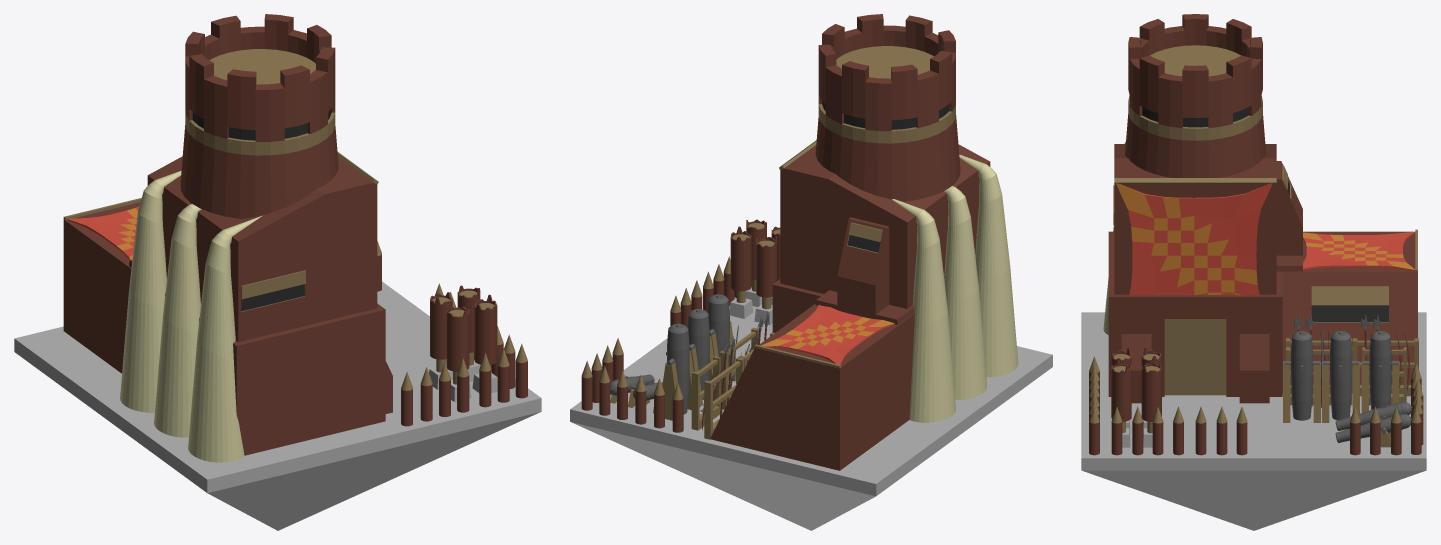
Rendered from Building Armory T2.fbx.
3 renders of one model, left to right at view 1: azimuth 30°, elevation 25°; view 2: azimuth 150°, elevation 25°; view 3: azimuth 270°, elevation 25°, orthographic. The views are drawn at different scales.
Parts seen in each view (by area): view 1: Armoury T2; view 2: Armoury T2; view 3: Armoury T2.
Boxes of the visible parts, x1,y1,x2,y2 form: Armoury T2: (14, 14, 541, 530); Armoury T2: (570, 14, 1052, 530); Armoury T2: (1081, 14, 1426, 530).
Size of the model in its own units: 1599 by 2383 by 1599.
